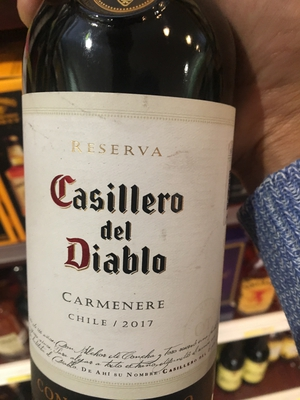casillero del diablo carmenere: (24, 3, 235, 400)
